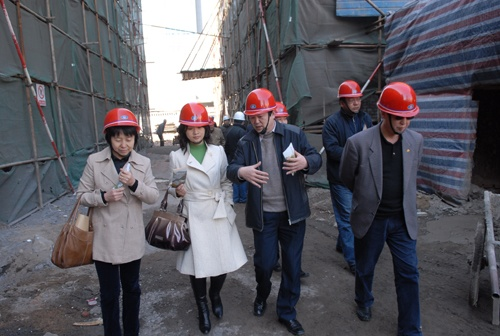red: (378, 82, 418, 134), (104, 108, 138, 153), (244, 88, 275, 132), (177, 101, 207, 143), (337, 79, 364, 114), (273, 101, 287, 125), (206, 116, 215, 131)
white: (232, 111, 245, 126), (221, 115, 230, 125)
